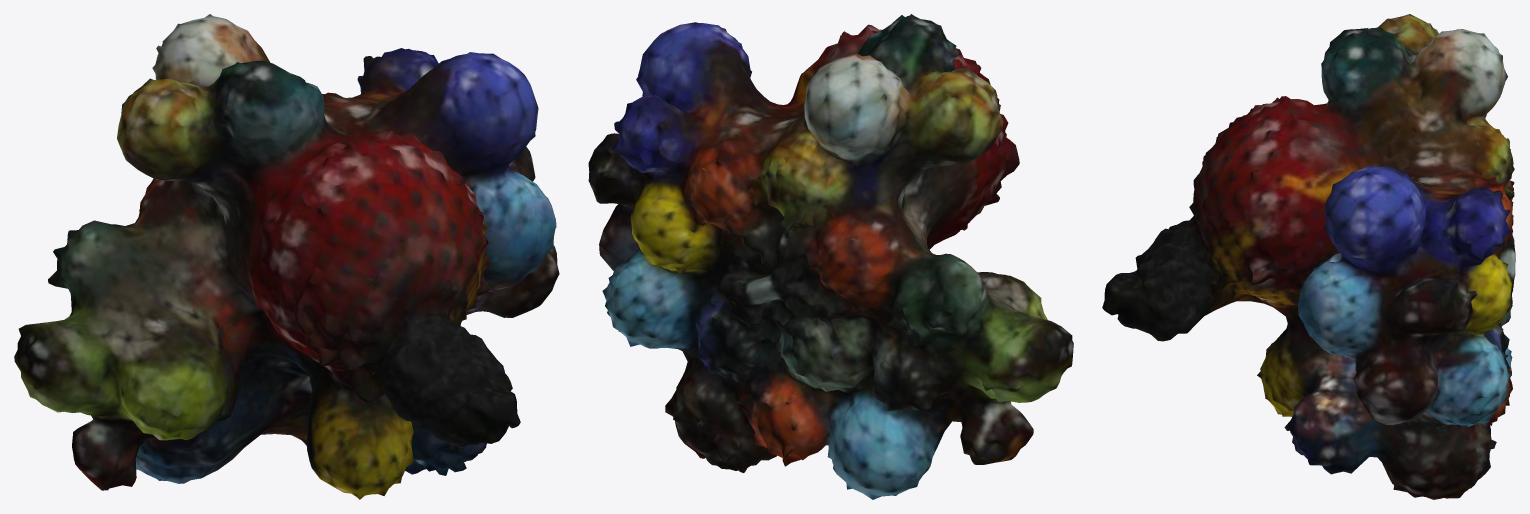
The model's file is ddg-ycb_063-a_marbles.glb.
The picture shows the model from 3 angles, left to right: view 1: azimuth 30°, elevation 25°; view 2: azimuth 150°, elevation 25°; view 3: azimuth 270°, elevation 25°; orthographic projection. The views are drawn at different scales.
Parts seen in each view (by area): view 1: textured(Clone); view 2: textured(Clone); view 3: textured(Clone).
Boxes of the visible parts, bbox=[...] form: textured(Clone): bbox=[14, 14, 559, 499]; textured(Clone): bbox=[588, 14, 1073, 499]; textured(Clone): bbox=[1102, 14, 1515, 499].
Bounding box in the file's own units: 1.71 × 1.52 × 1.41.
Materials: 1 (1 with a texture image).
